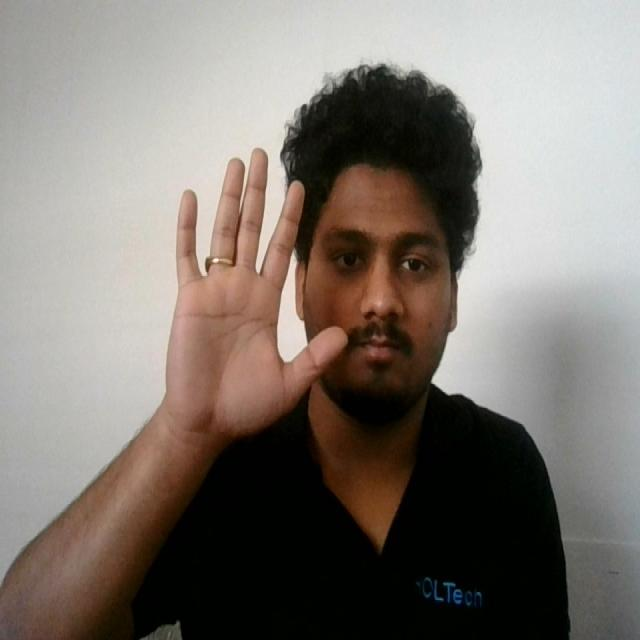Hello: (157, 138, 347, 449)
